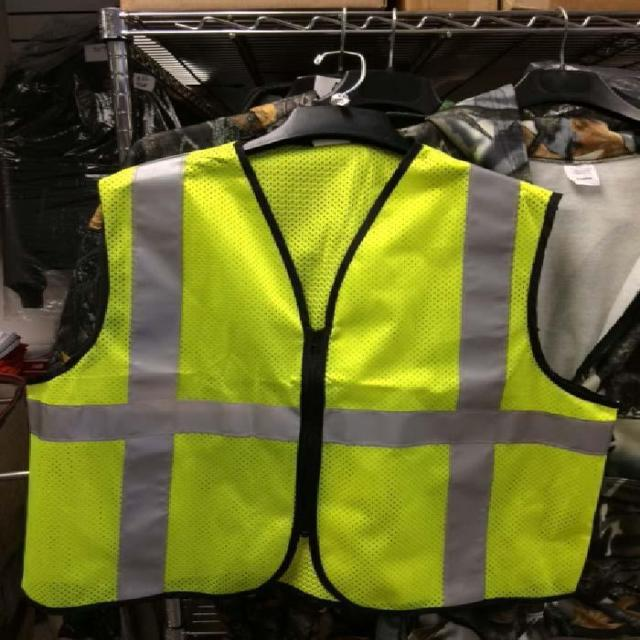Vest: (24, 137, 614, 611)
